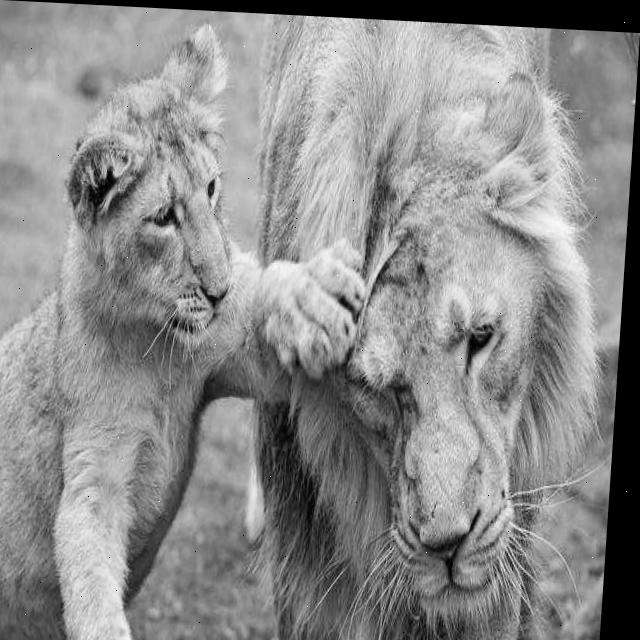Lion: (290, 75, 577, 603), (27, 82, 290, 415)
